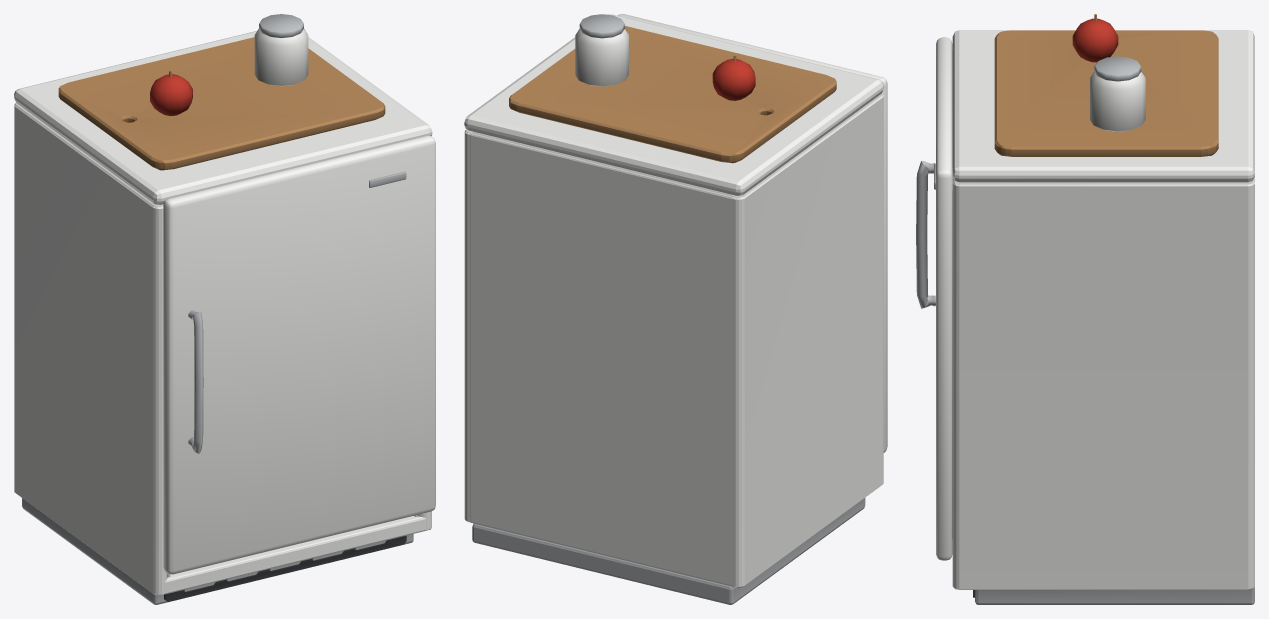
Rendered from fridgeMini.glb.
3 views of the same model, side by side, from view 1: azimuth 30°, elevation 25°; view 2: azimuth 150°, elevation 25°; view 3: azimuth 270°, elevation 25° (orthographic). The views are drawn at different scales.
Visible parts, largest first — view 1: body, door; view 2: body, door; view 3: body, door.
Boxes of the visible parts, x1,y1,x2,y2 form: body: [14, 14, 432, 604]; door: [163, 135, 435, 574]; body: [464, 14, 883, 604]; door: [618, 14, 887, 452]; body: [952, 14, 1254, 604]; door: [916, 37, 954, 560].
Size of the model in its own units: 0.6 by 1 by 0.6055.
